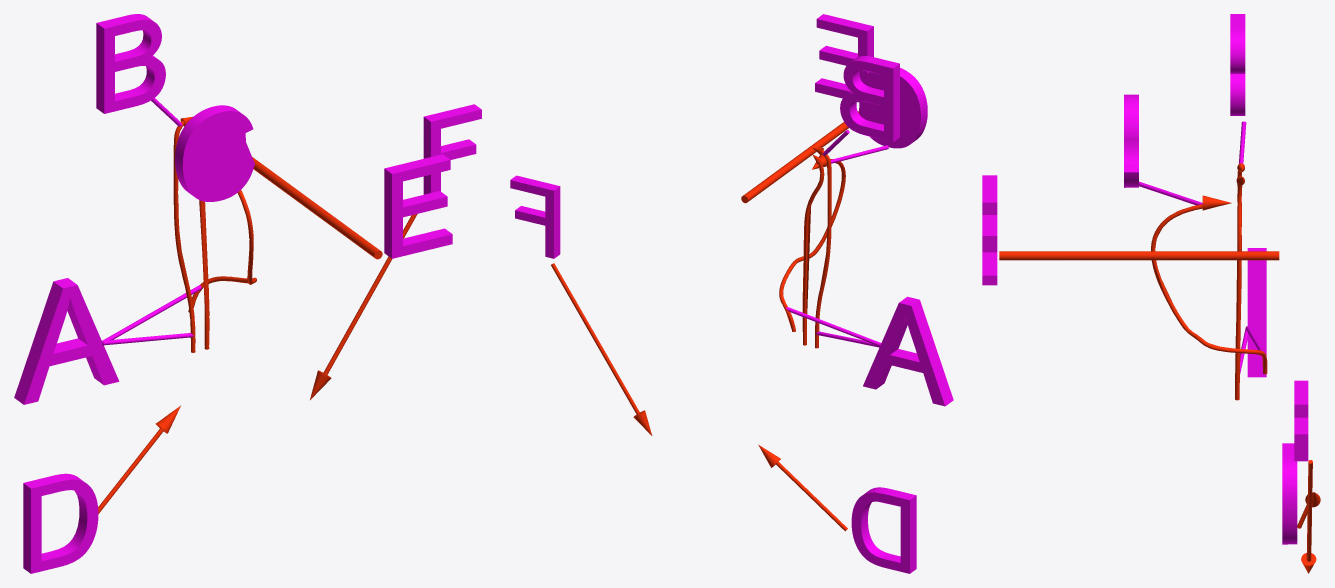
Rendered from s5arrow.obj.
The picture shows the model from 3 angles, left to right: view 1: azimuth 30°, elevation 25°; view 2: azimuth 150°, elevation 25°; view 3: azimuth 270°, elevation 25°; orthographic projection. The views are drawn at different scales.
Size of the model in its own units: 7.08 by 7.77 by 4.47.
